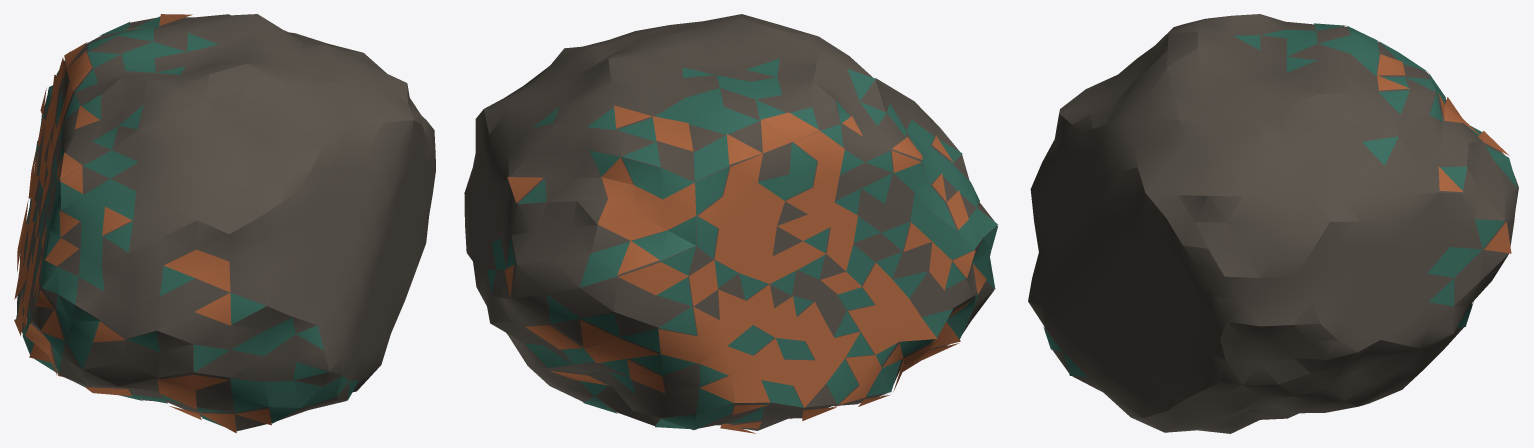
The model's file is ore_copper.glb.
The picture shows the model from 3 angles, left to right: view 1: azimuth 30°, elevation 25°; view 2: azimuth 150°, elevation 25°; view 3: azimuth 270°, elevation 25°; orthographic projection. The views are drawn at different scales.
Visible parts, largest first — view 1: copper_matrix, copper_malachite, copper_native; view 2: copper_matrix, copper_native, copper_malachite; view 3: copper_matrix, copper_malachite, copper_native.
Part boxes in pixels (x1=…): copper_matrix: x1=17, y1=14, x2=435, y2=430; copper_malachite: x1=16, y1=16, x2=359, y2=426; copper_native: x1=14, y1=14, x2=271, y2=433; copper_matrix: x1=464, y1=14, x2=996, y2=430; copper_native: x1=504, y1=105, x2=986, y2=433; copper_malachite: x1=487, y1=58, x2=997, y2=430; copper_matrix: x1=1028, y1=14, x2=1518, y2=433; copper_malachite: x1=1043, y1=23, x2=1517, y2=377; copper_native: x1=1377, y1=54, x2=1511, y2=253.
Size of the model in its own units: 1.14 by 0.8769 by 1.11.
